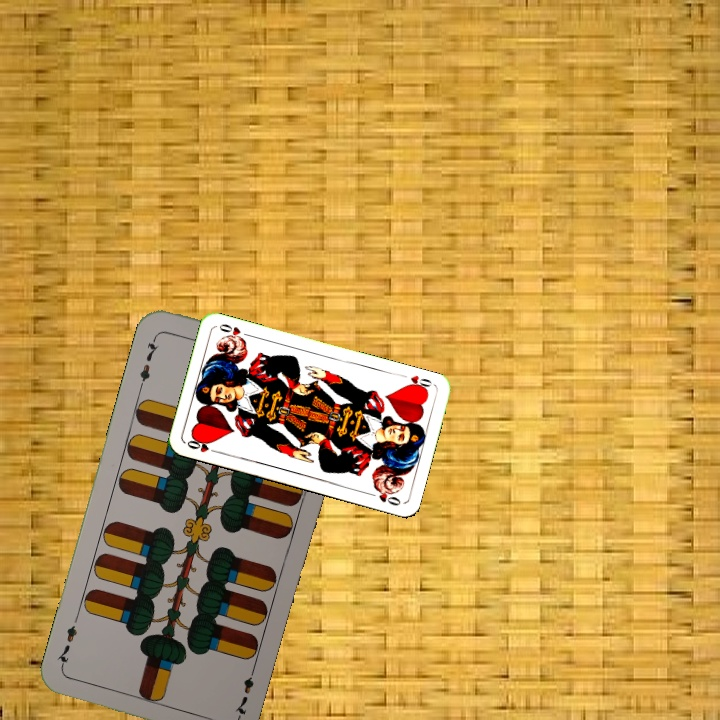E7: (230, 661, 259, 719), (135, 332, 161, 390)
HO: (183, 434, 222, 456), (402, 371, 436, 394)
